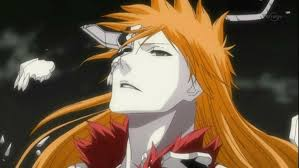Ichigo: (110, 8, 216, 113)
